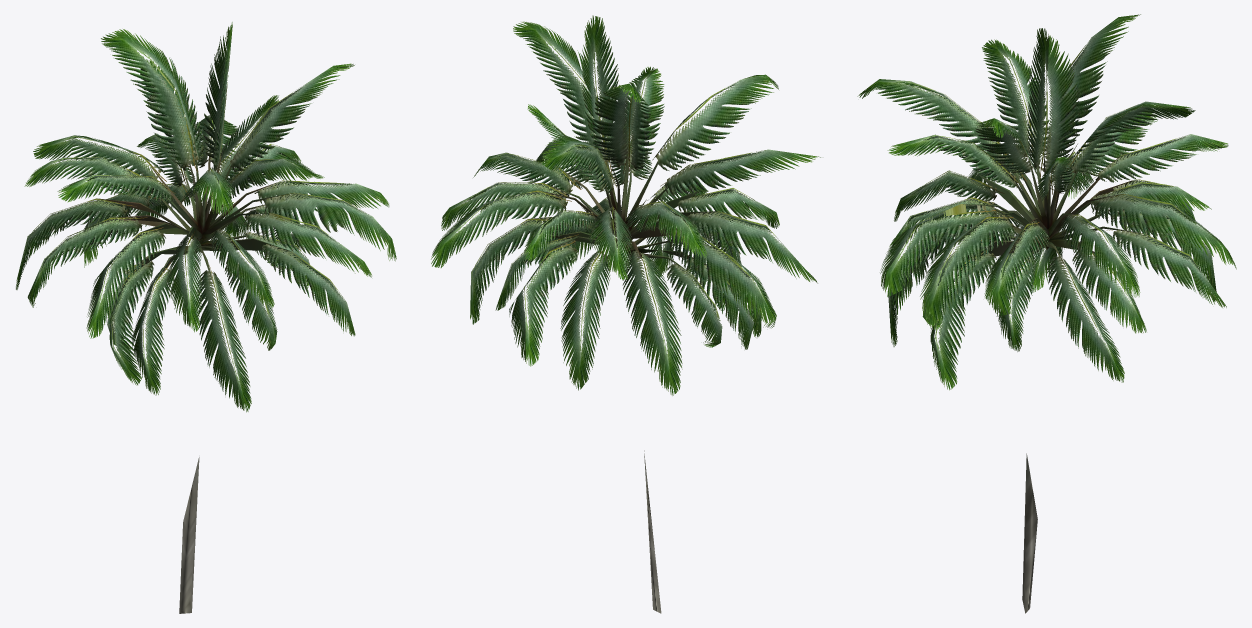
File: tree-palm.lod1.glb
3 renders of one model, left to right at view 1: azimuth 30°, elevation 25°; view 2: azimuth 150°, elevation 25°; view 3: azimuth 270°, elevation 25°, orthographic. The views are drawn at different scales.
Visible parts, largest first — view 1: SM_MZRa_Palm_B082_MI_MZRa_Palm_B08a_0, SM_MZRa_Palm_B082_MI_MZRa_Palm_B08b_0; view 2: SM_MZRa_Palm_B082_MI_MZRa_Palm_B08a_0, SM_MZRa_Palm_B082_MI_MZRa_Palm_B08b_0; view 3: SM_MZRa_Palm_B082_MI_MZRa_Palm_B08a_0, SM_MZRa_Palm_B082_MI_MZRa_Palm_B08b_0.
Part boxes in pixels (left/top/right/bottom): SM_MZRa_Palm_B082_MI_MZRa_Palm_B08a_0: left=16, top=22, right=396, bottom=412; SM_MZRa_Palm_B082_MI_MZRa_Palm_B08b_0: left=99, top=136, right=291, bottom=613; SM_MZRa_Palm_B082_MI_MZRa_Palm_B08a_0: left=431, top=15, right=820, bottom=395; SM_MZRa_Palm_B082_MI_MZRa_Palm_B08b_0: left=534, top=133, right=716, bottom=613; SM_MZRa_Palm_B082_MI_MZRa_Palm_B08a_0: left=857, top=14, right=1236, bottom=390; SM_MZRa_Palm_B082_MI_MZRa_Palm_B08b_0: left=963, top=121, right=1137, bottom=613.
Bounding box in the file's own units: 6.21 × 10 × 5.65.
Materials: 2 (2 with a texture image).
